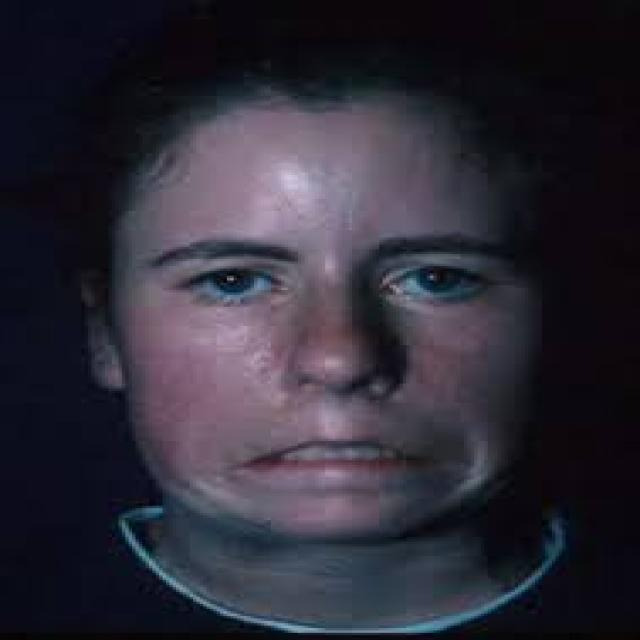stroke_face: (103, 72, 582, 537)
